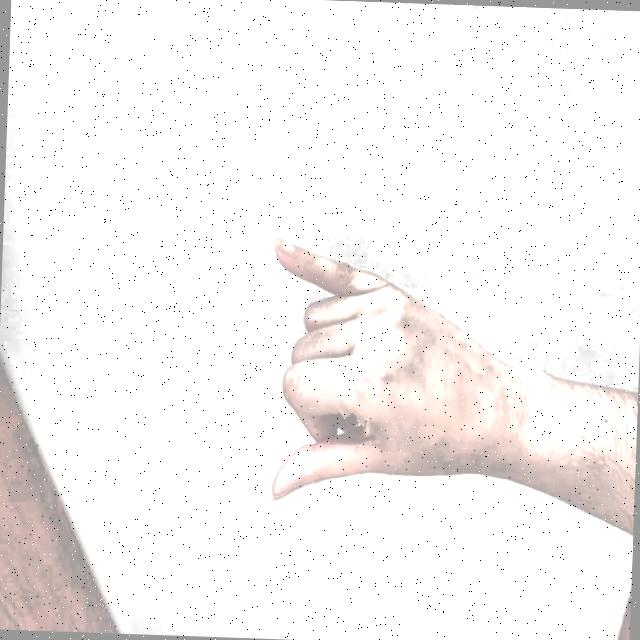Oi: (230, 198, 523, 538)
